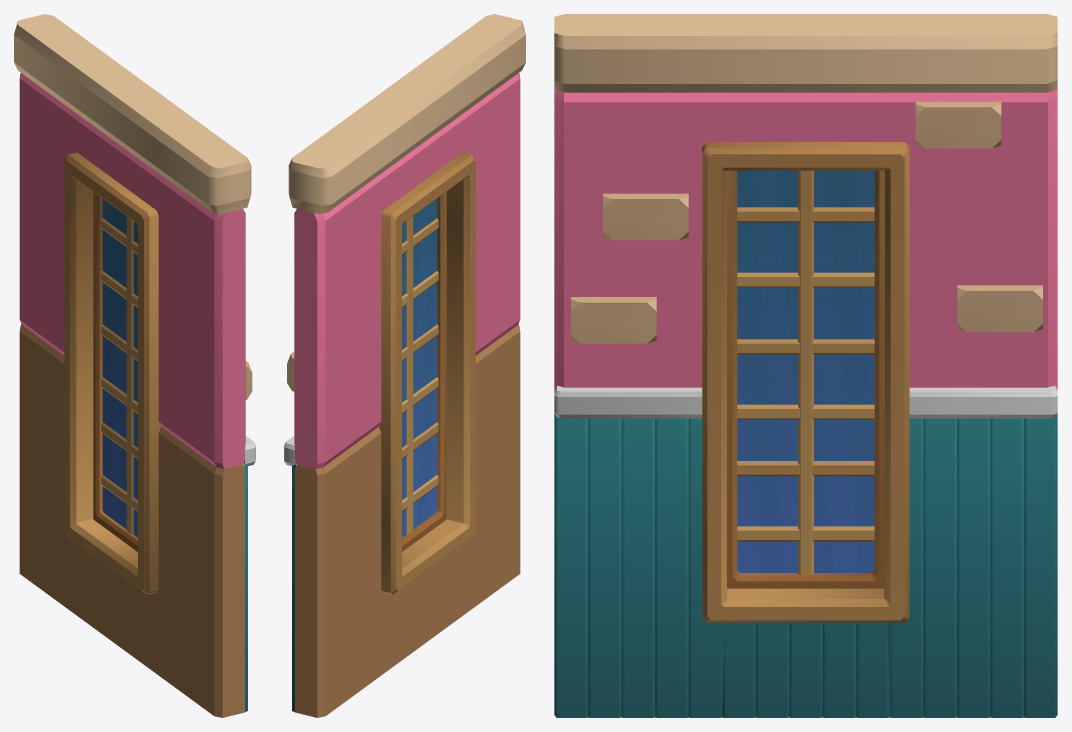
The model's file is Wall_C_20.glb.
3 views of the same model, side by side, from view 1: azimuth 30°, elevation 25°; view 2: azimuth 150°, elevation 25°; view 3: azimuth 270°, elevation 25° (orthographic). The views are drawn at different scales.
Parts seen in each view (by area): view 1: Wall_C_20; view 2: Wall_C_20; view 3: Wall_C_20.
Boxes of the visible parts, x1,y1,x2,y2 form: Wall_C_20: (14, 14, 255, 717); Wall_C_20: (284, 14, 525, 717); Wall_C_20: (554, 14, 1057, 717).
Bounding box in the file's own units: 0.3277 × 3 × 2.
Materials: 2 (2 with a texture image).
